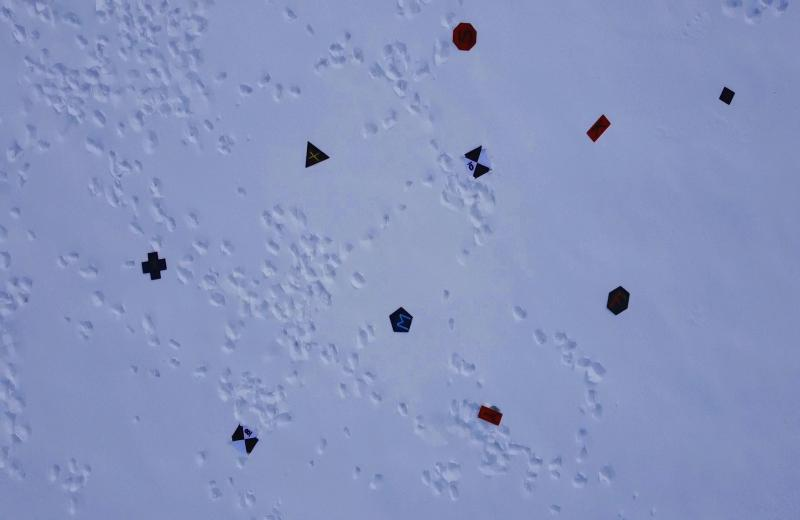Cross: (139, 252, 171, 286)
Hexagon: (604, 284, 634, 320)
Octagon: (452, 16, 480, 52)
Pentagon: (386, 304, 415, 340)
Rectangle: (582, 113, 612, 146), (476, 402, 508, 432)
Square: (714, 88, 738, 112)
Triangle: (300, 138, 332, 172)
